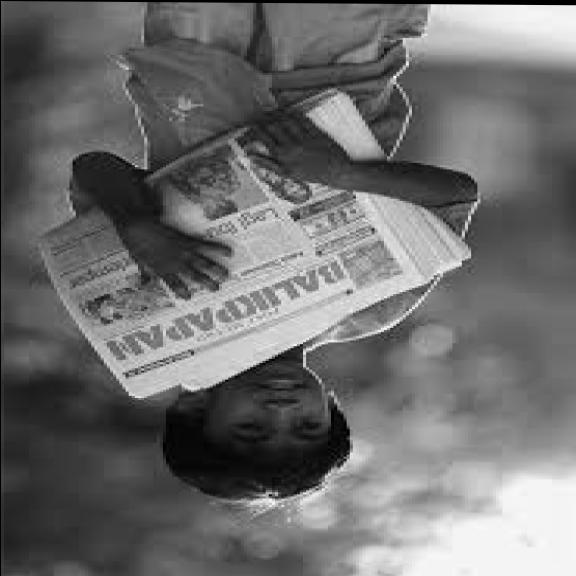Kertas: (34, 79, 486, 408)
